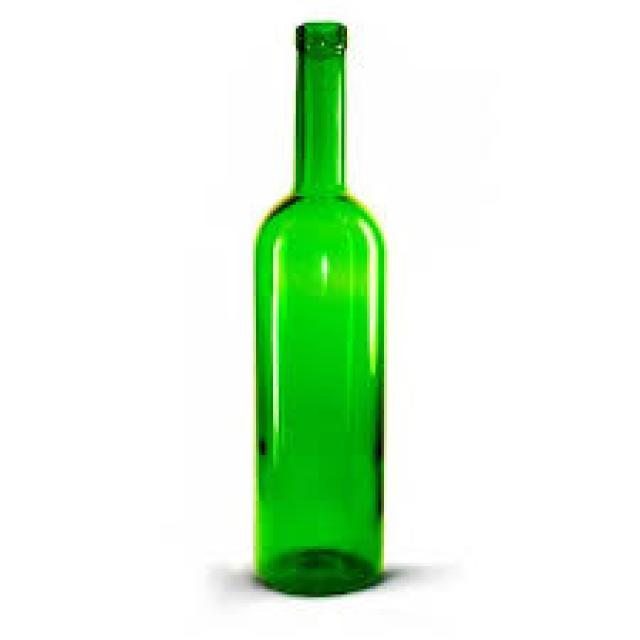glass: (253, 20, 384, 592)
